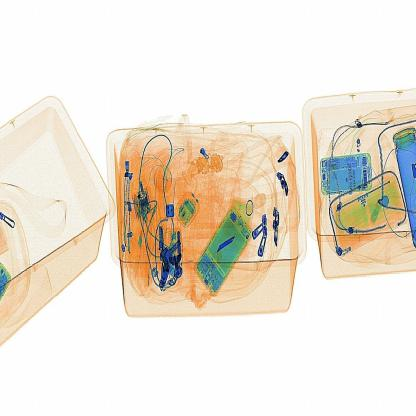pliers: (212, 228, 247, 260)
